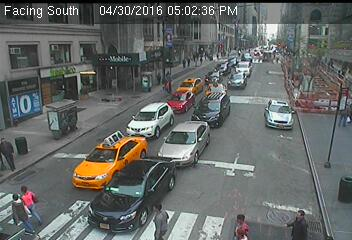neg: (209, 148, 235, 183), (297, 93, 320, 123), (71, 157, 92, 186), (263, 101, 284, 129), (45, 109, 66, 136), (175, 140, 195, 167), (330, 164, 350, 190), (184, 208, 203, 234), (13, 129, 30, 151), (223, 68, 239, 90), (236, 26, 251, 46), (181, 95, 192, 110), (202, 79, 212, 93), (266, 44, 274, 54), (221, 49, 228, 58), (195, 30, 202, 39), (278, 40, 285, 49)
pos: (8, 181, 39, 222), (143, 198, 171, 236), (289, 203, 314, 237), (230, 207, 252, 237), (335, 98, 351, 130), (151, 70, 166, 90), (236, 222, 247, 237), (180, 57, 190, 71), (164, 68, 174, 81), (184, 54, 194, 67)
